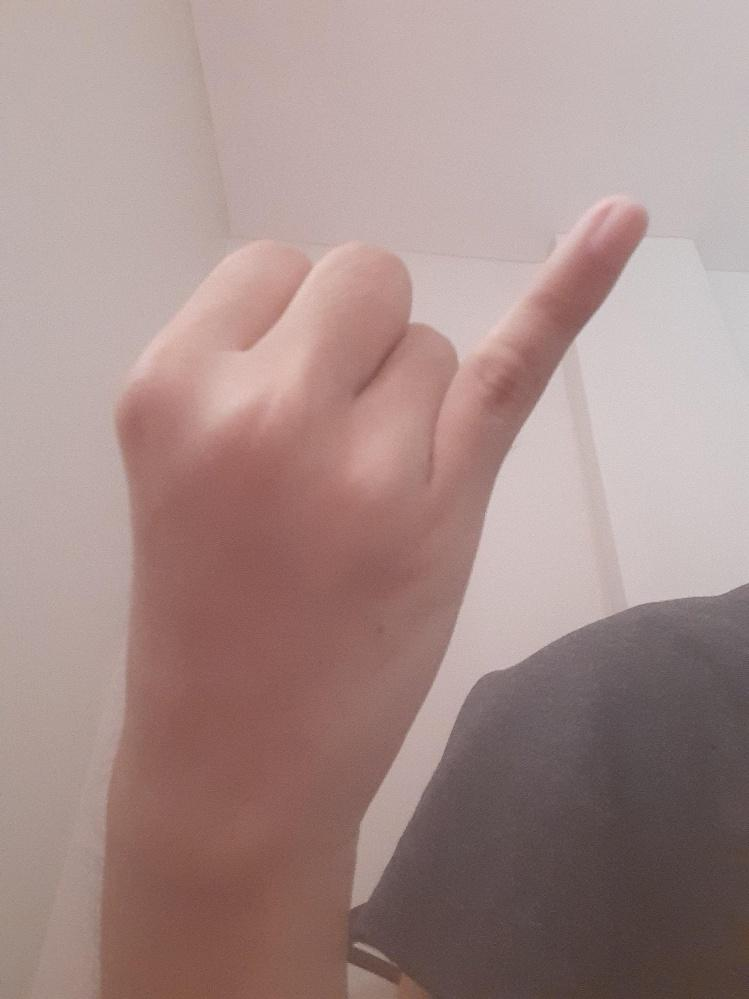j: (112, 191, 649, 744)
